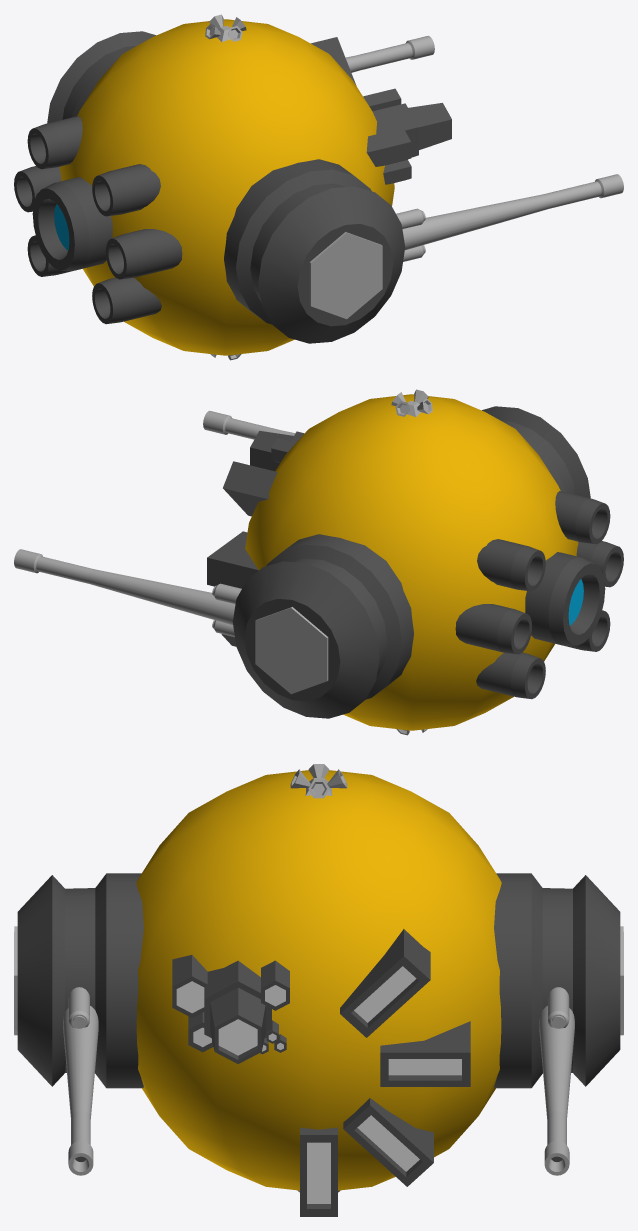
The model's file is DroneV02.fbx.
3 views of the same model, one above another, from view 1: azimuth 30°, elevation 25°; view 2: azimuth 150°, elevation 25°; view 3: azimuth 270°, elevation 25° (orthographic). The views are drawn at different scales.
Parts seen in each view (by area): view 1: Body, GunBase, SmallTrusters, Guns1, Mainthruster, Eye1, DTV_thrustVectors, Eye2; view 2: Body, GunBase, SmallTrusters, Guns1, Mainthruster, Eye2, Eye1, DTV_thrustVectors; view 3: Body, GunBase, Eye2, Guns1, Eye1, DTV_thrustVectors.
Boxes of the visible parts, bbox=[...] form: Body: bbox=[59, 19, 394, 355]; GunBase: bbox=[47, 31, 405, 343]; SmallTrusters: bbox=[14, 116, 182, 324]; Guns1: bbox=[309, 35, 623, 319]; Mainthruster: bbox=[32, 177, 112, 270]; Eye1: bbox=[363, 88, 451, 184]; DTV_thrustVectors: bbox=[205, 14, 246, 360]; Eye2: bbox=[311, 37, 356, 85]; Body: bbox=[245, 394, 578, 730]; GunBase: bbox=[232, 406, 590, 718]; SmallTrusters: bbox=[455, 491, 623, 699]; Guns1: bbox=[14, 410, 328, 694]; Mainthruster: bbox=[525, 552, 605, 645]; Eye2: bbox=[207, 461, 277, 646]; Eye1: bbox=[250, 431, 304, 471]; DTV_thrustVectors: bbox=[391, 389, 432, 735]; Body: bbox=[136, 770, 501, 1190]; GunBase: bbox=[17, 873, 620, 1088]; Eye2: bbox=[300, 929, 470, 1216]; Guns1: bbox=[14, 926, 623, 1175]; Eye1: bbox=[172, 955, 289, 1063]; DTV_thrustVectors: bbox=[290, 764, 347, 1192].
Bounding box in the file's own units: 64.34 × 43.47 × 57.35.
